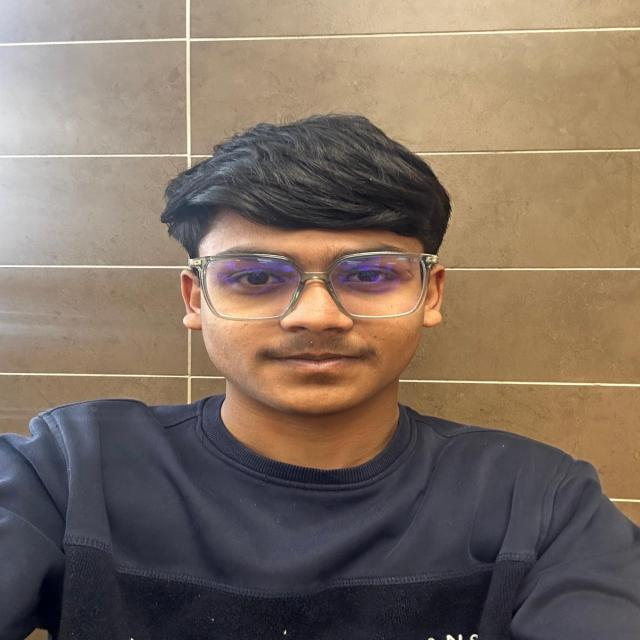nocap: (140, 110, 470, 252)
